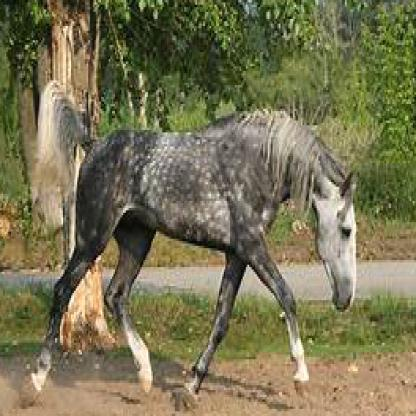horse: (19, 81, 358, 412)
